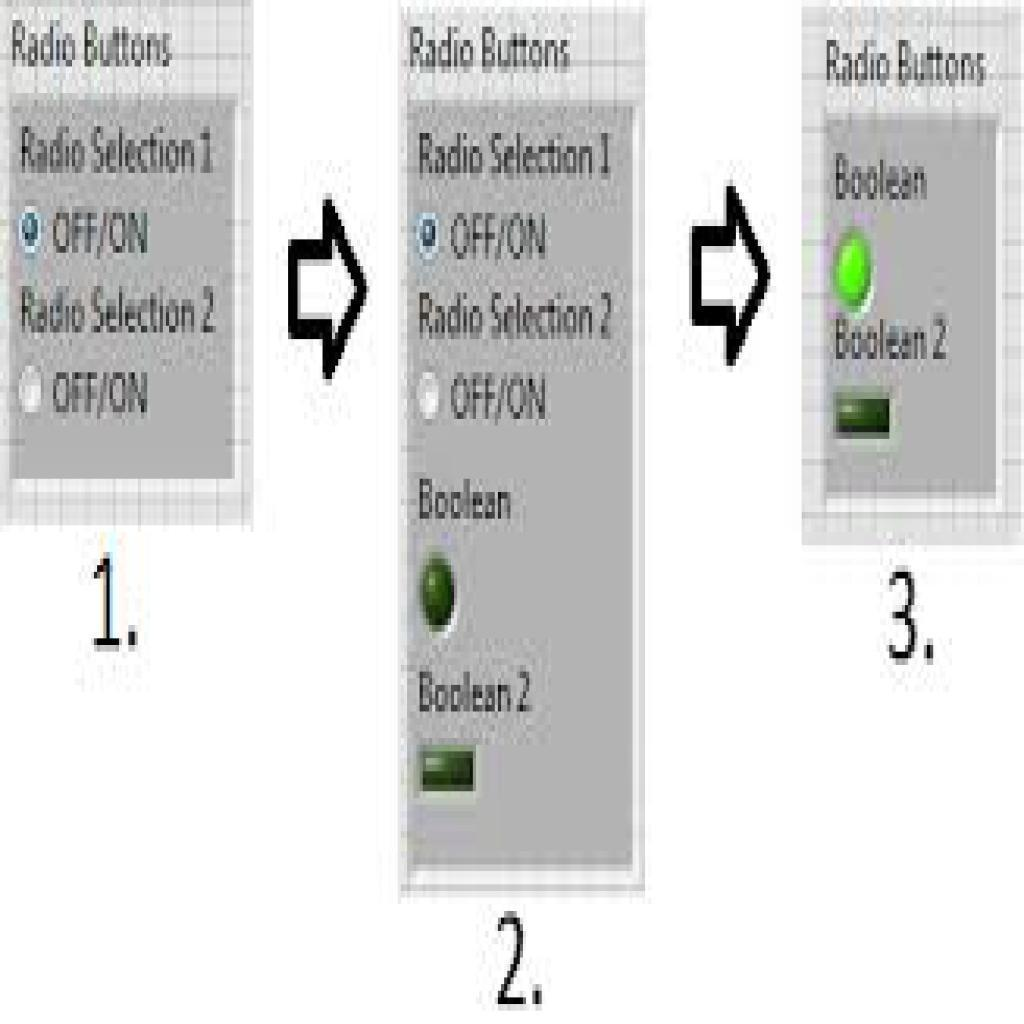radio: (413, 365, 445, 423), (415, 208, 444, 265), (18, 360, 46, 417), (18, 205, 47, 256)
